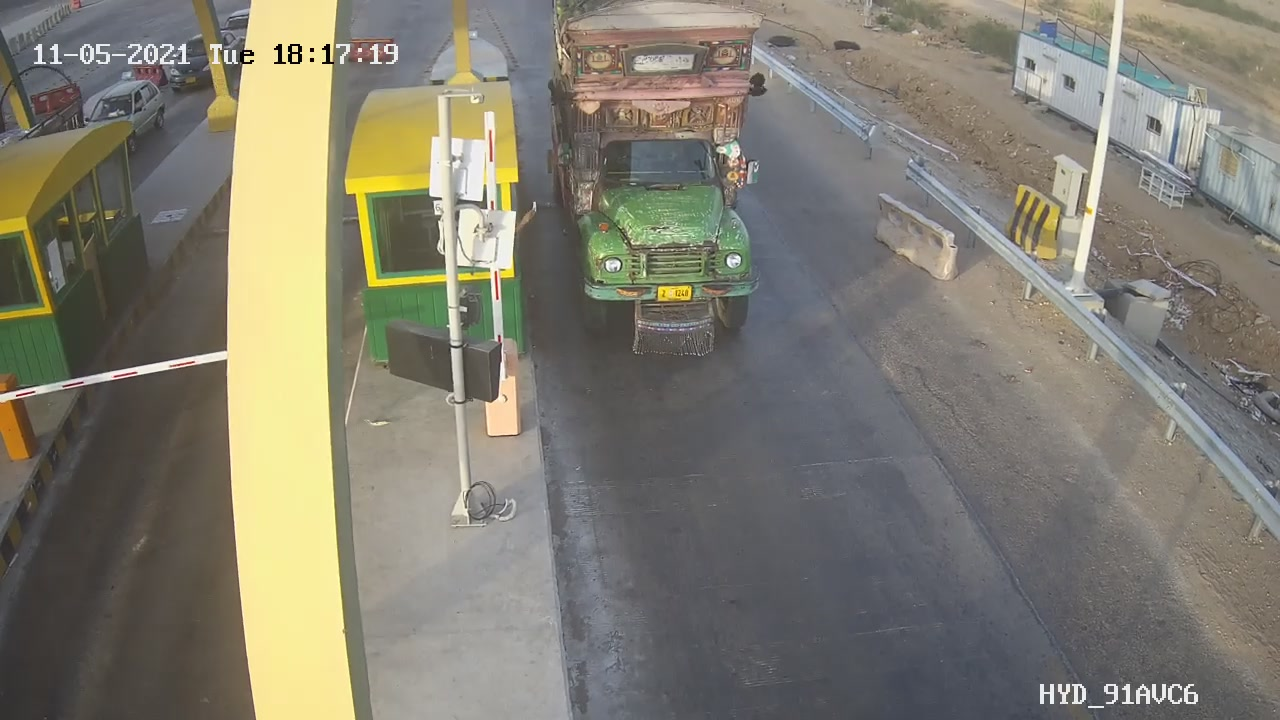F5: (547, 9, 783, 366)
